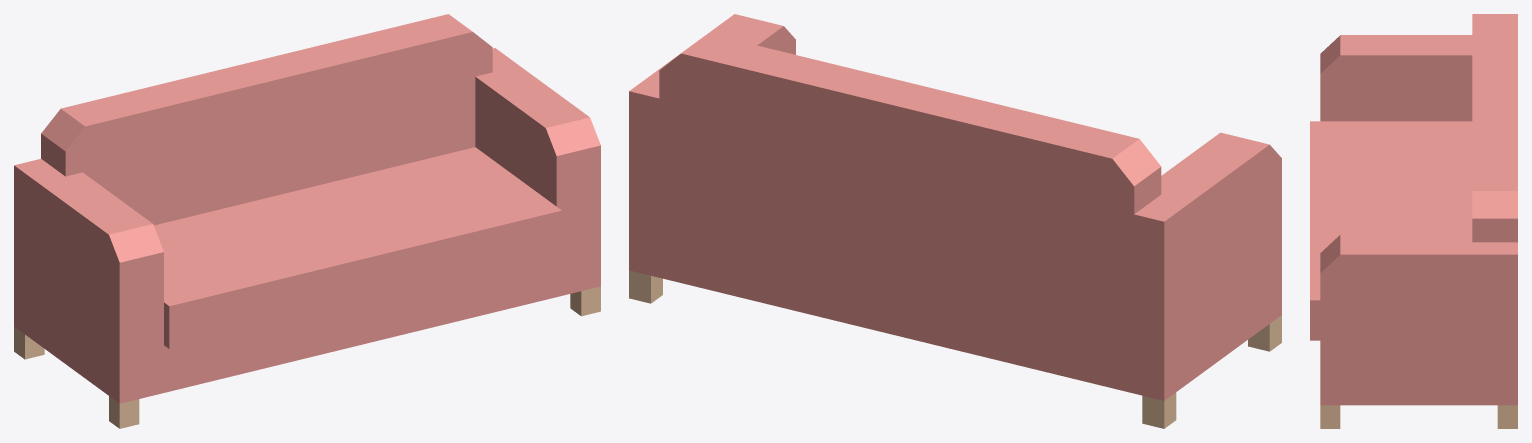
The model's file is loungeSofa-col.glb.
3 views of the same model, side by side, from view 1: azimuth 30°, elevation 25°; view 2: azimuth 150°, elevation 25°; view 3: azimuth 270°, elevation 25° (orthographic). The views are drawn at different scales.
Parts seen in each view (by area): view 1: loungeSofa-col; view 2: loungeSofa-col; view 3: loungeSofa-col.
Part boxes in pixels (x1,y1,x2,y2): loungeSofa-col: (14, 14, 600, 428); loungeSofa-col: (629, 14, 1281, 428); loungeSofa-col: (1310, 14, 1517, 428).
Size of the model in its own units: 1 by 0.46 by 0.4.
